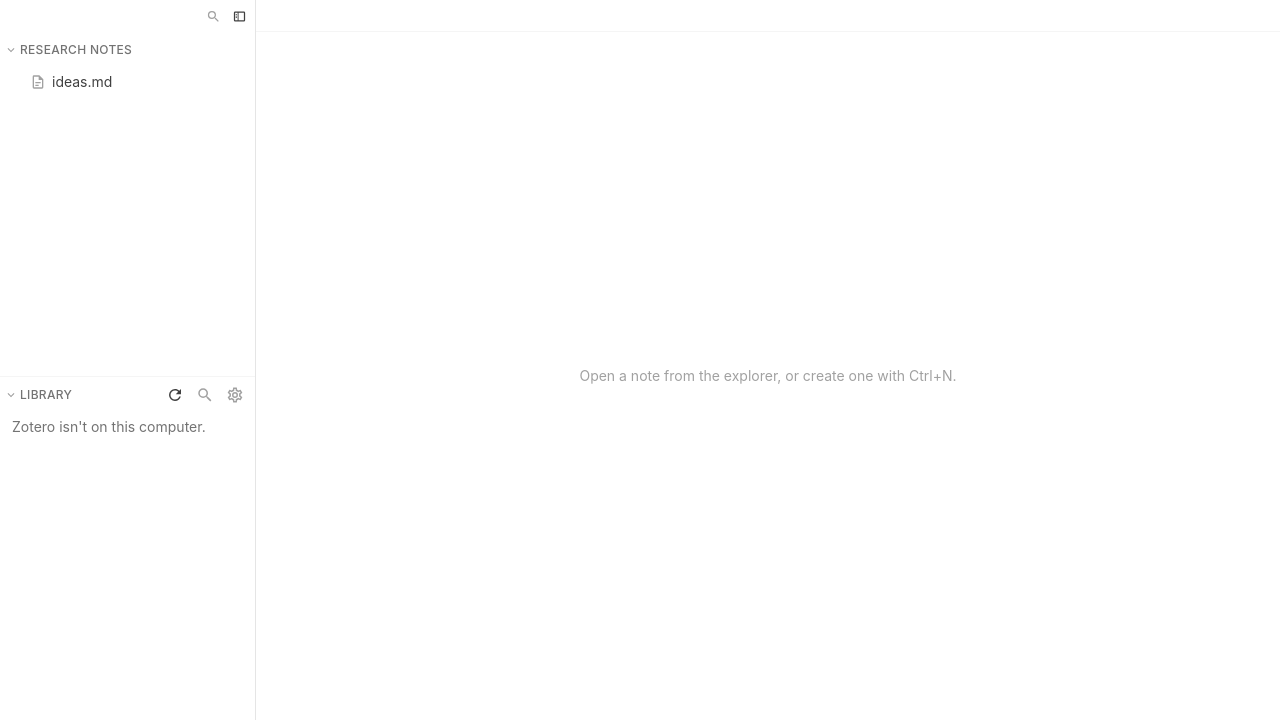
Test: The top of the window › clicking the workspace's name folds the files away
Check: the button "ideas.md" is shown, box [6, 68, 249, 96]
Click the button "Research Notes": (82, 50) [4, 40, 161, 60]
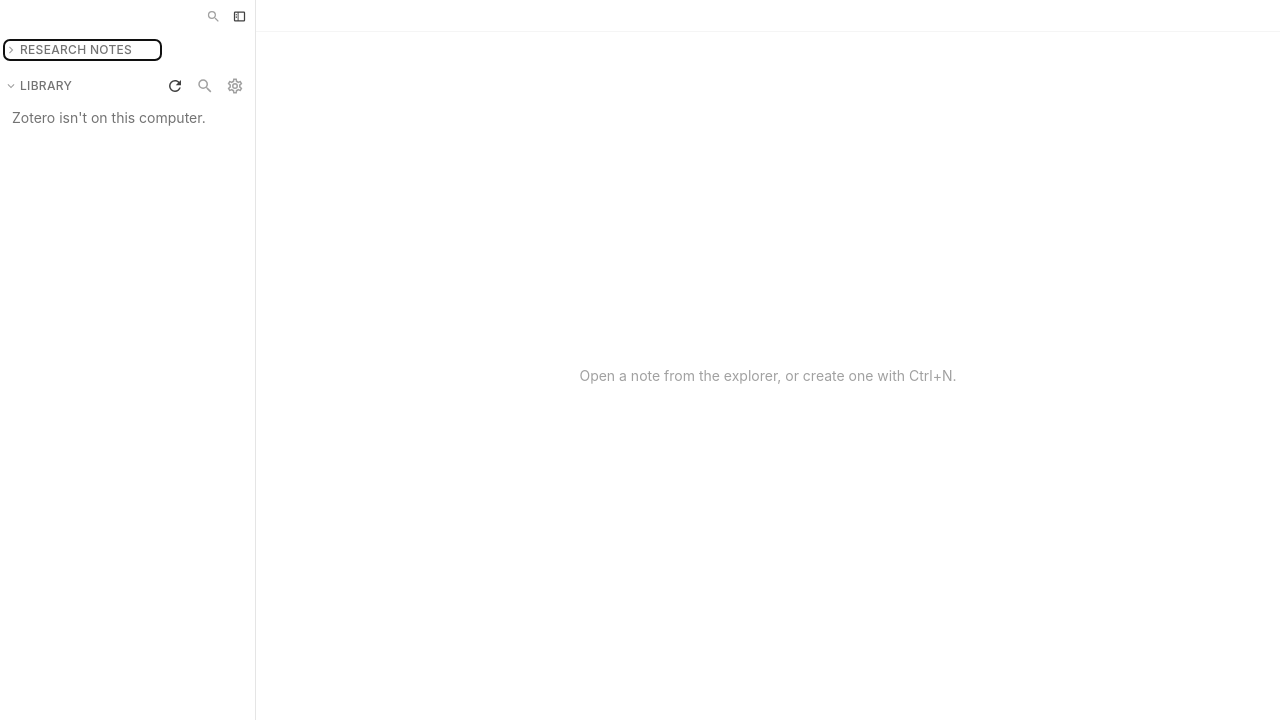
Check: the button "ideas.md" is gone
